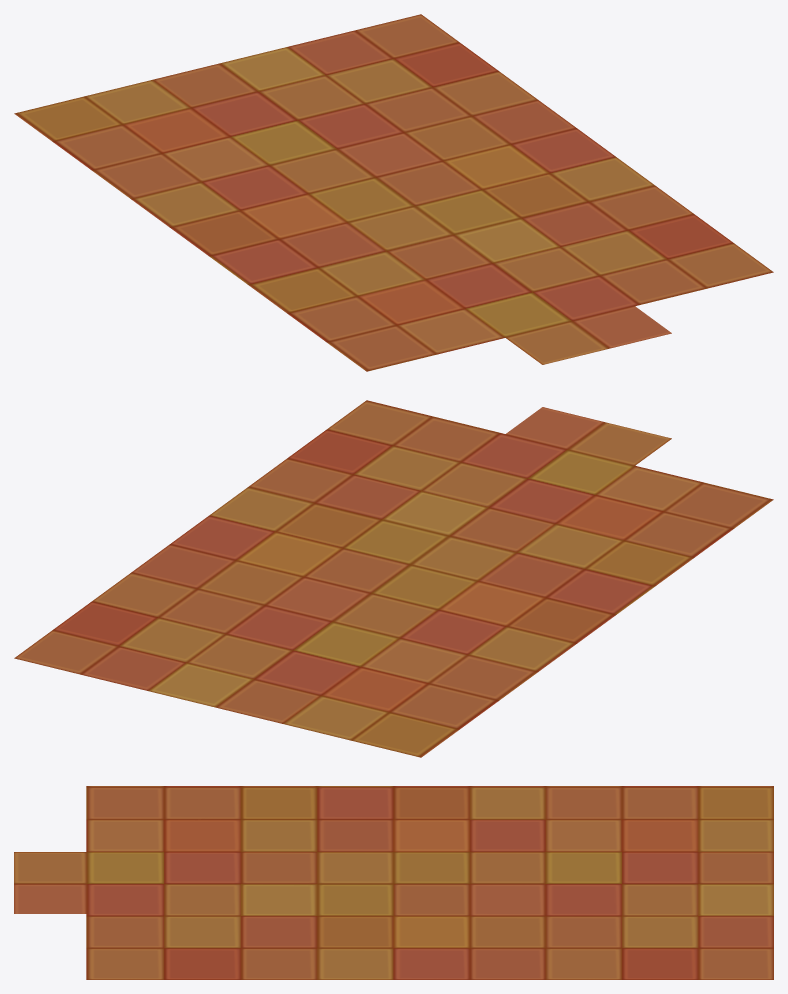
Rendered from Floor02_b01.FBX.
The picture shows the model from 3 angles, top to bottom: view 1: azimuth 30°, elevation 25°; view 2: azimuth 150°, elevation 25°; view 3: azimuth 270°, elevation 25°; orthographic projection. The views are drawn at different scales.
Parts seen in each view (by area): view 1: Floor02_b01; view 2: Floor02_b01; view 3: Floor02_b01.
Part boxes in pixels (<box>): Floor02_b01: <box>14,14,773,371</box>; Floor02_b01: <box>14,400,773,757</box>; Floor02_b01: <box>14,786,773,979</box>.
Bounding box in the file's own units: 600 × 0.000446 × 995.
1 material, 1 textured.
